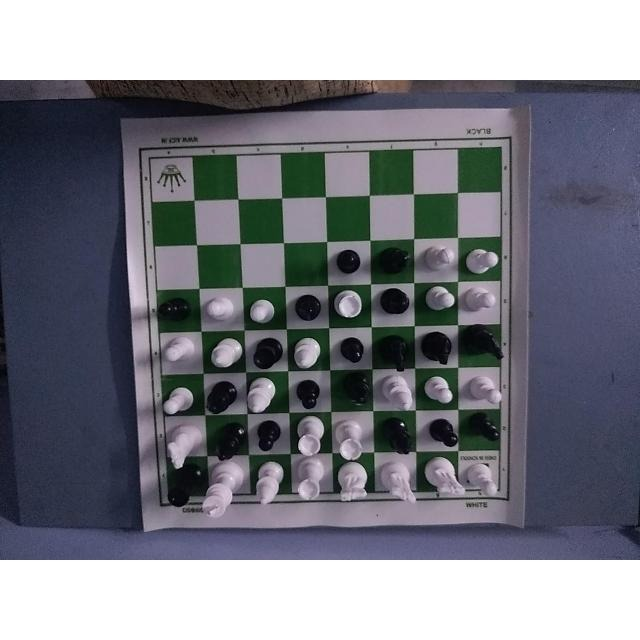black-bishop: (380, 414, 418, 455), (333, 373, 373, 411), (211, 417, 247, 459), (377, 237, 412, 278), (379, 284, 412, 325), (289, 285, 322, 325), (202, 379, 240, 413)
black-knight: (466, 323, 507, 365), (376, 329, 415, 369), (422, 327, 457, 367)
black-pawn: (148, 292, 196, 331), (464, 409, 508, 447), (332, 239, 368, 284), (291, 370, 326, 407), (334, 331, 368, 369), (422, 415, 457, 447), (253, 419, 284, 454)
black-rook: (158, 470, 197, 512), (249, 333, 285, 371)
white-bishop: (251, 456, 288, 510), (206, 330, 243, 370), (245, 377, 284, 412), (379, 374, 414, 412), (291, 332, 320, 372)
white-king: (202, 462, 246, 523)
white-knight: (160, 415, 208, 468), (334, 461, 374, 509), (382, 462, 418, 510), (429, 456, 462, 505)
white-pawn: (420, 236, 458, 280), (160, 378, 200, 418), (464, 459, 502, 501), (419, 278, 458, 318), (466, 239, 506, 277), (159, 332, 195, 374), (202, 291, 240, 326), (423, 372, 458, 409), (461, 281, 500, 314), (466, 373, 503, 406), (247, 289, 278, 325)
white-rook: (330, 418, 369, 460), (294, 408, 330, 452), (293, 460, 323, 504), (334, 286, 366, 320)
